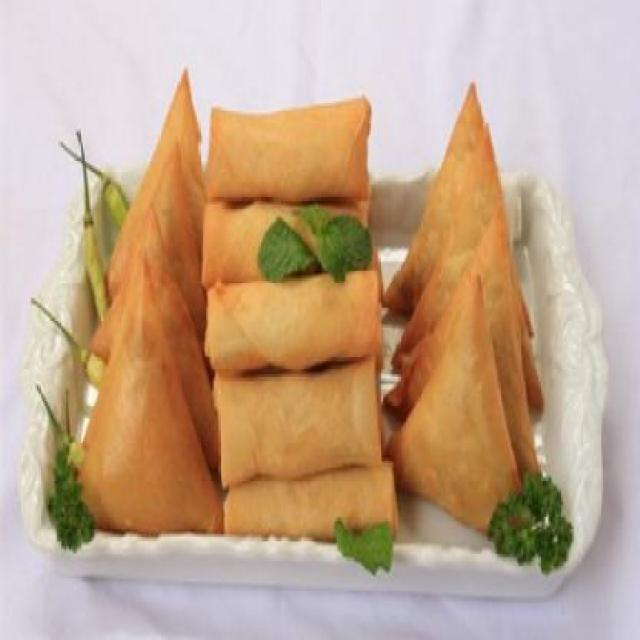samosa: (389, 76, 549, 539), (76, 59, 218, 527)
spring rolls: (205, 88, 397, 554)
